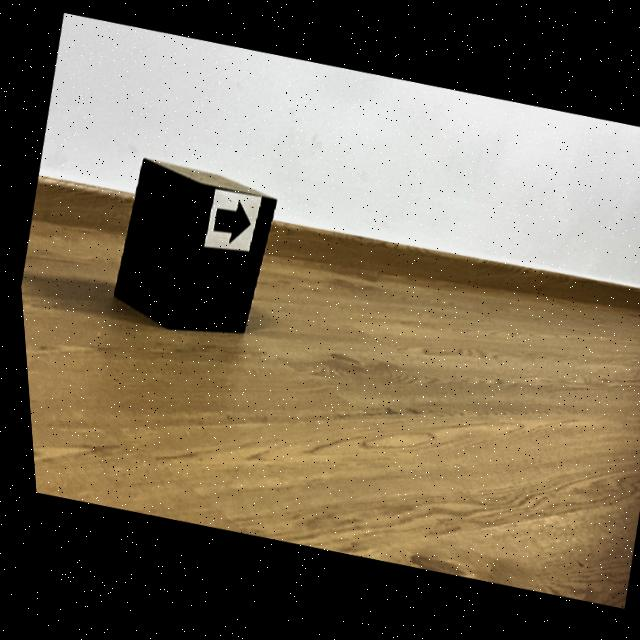RIGHT: (210, 203, 246, 243)
